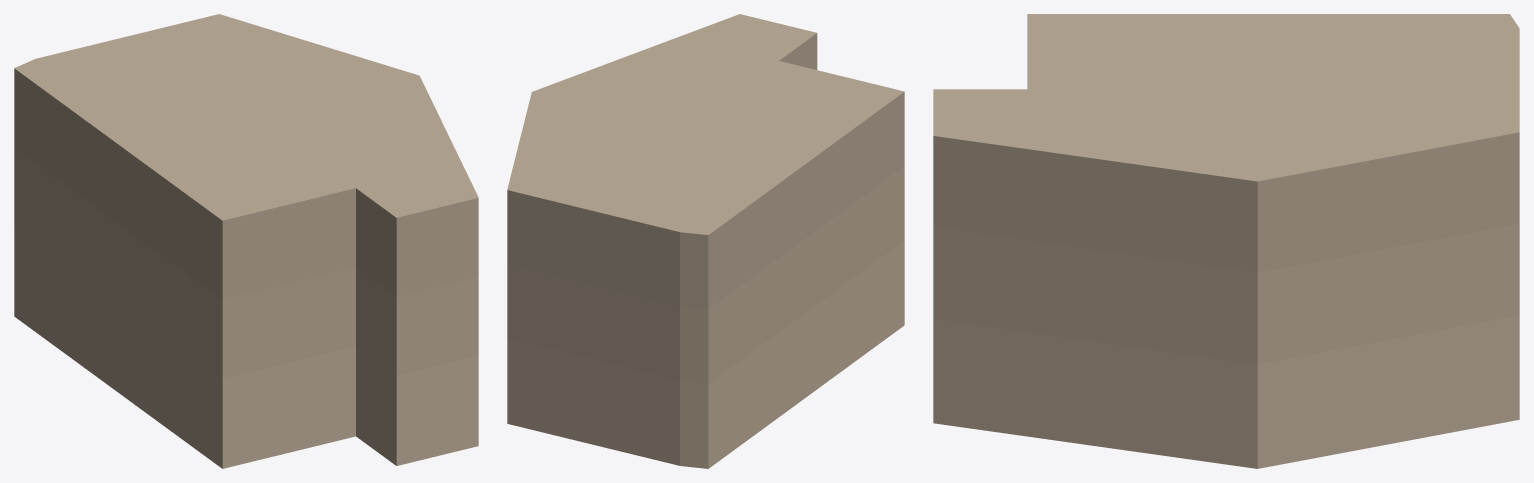
File: massing.glb
3 renders of one model, left to right at view 1: azimuth 30°, elevation 25°; view 2: azimuth 150°, elevation 25°; view 3: azimuth 270°, elevation 25°, orthographic. The views are drawn at different scales.
Visible parts, largest first — view 1: main/floor3/0, main/floor1/0, main/floor2/0; view 2: main/floor3/0, main/floor1/0, main/floor2/0; view 3: main/floor3/0, main/floor1/0, main/floor2/0.
Part boxes in pixels (x1=…): main/floor3/0: x1=14, y1=14, x2=478, y2=299; main/floor1/0: x1=14, y1=226, x2=478, y2=468; main/floor2/0: x1=14, y1=147, x2=478, y2=378; main/floor3/0: x1=507, y1=14, x2=904, y2=309; main/floor1/0: x1=507, y1=240, x2=904, y2=468; main/floor2/0: x1=507, y1=166, x2=904, y2=383; main/floor3/0: x1=933, y1=14, x2=1519, y2=272; main/floor1/0: x1=933, y1=315, x2=1519, y2=468; main/floor2/0: x1=933, y1=224, x2=1519, y2=364.
Size of the model in its own units: 11 by 8.8 by 16.27.
